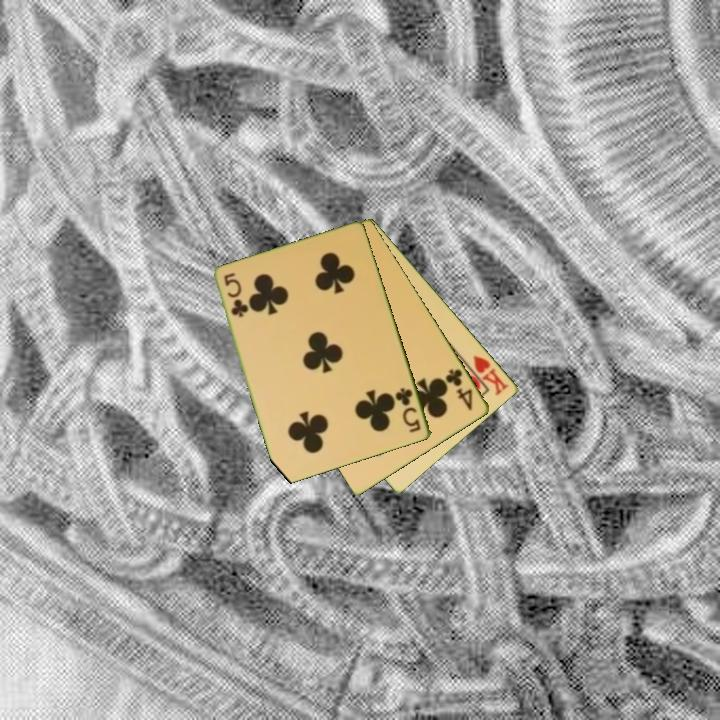4c: (442, 365, 476, 414)
5c: (392, 384, 424, 436), (220, 269, 250, 320)
Kh: (461, 351, 511, 399)
